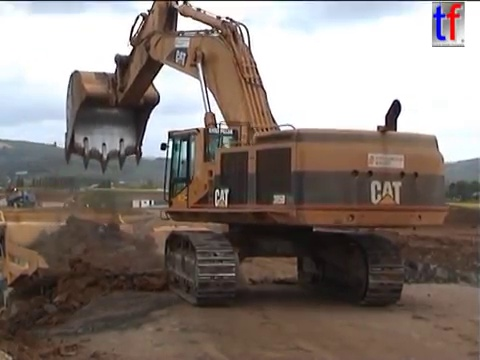excavator: (59, 1, 453, 311)
truck: (1, 209, 213, 337), (145, 222, 231, 296)
